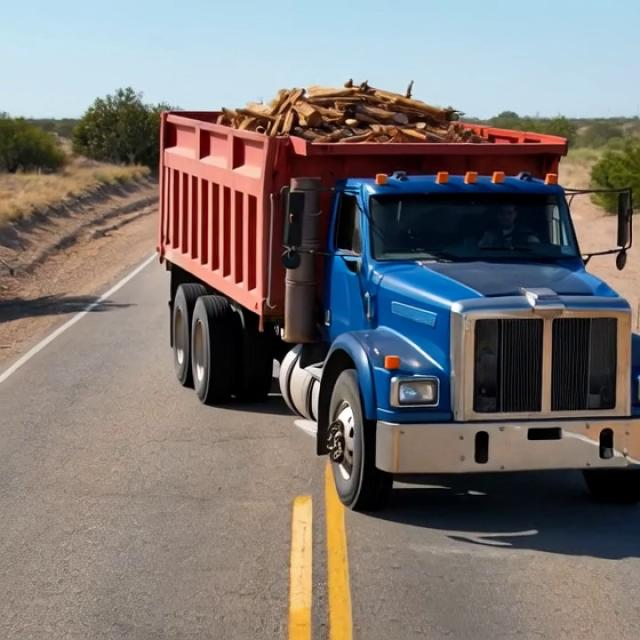Box: (157, 82, 574, 160)
Truck: (150, 64, 636, 512)
